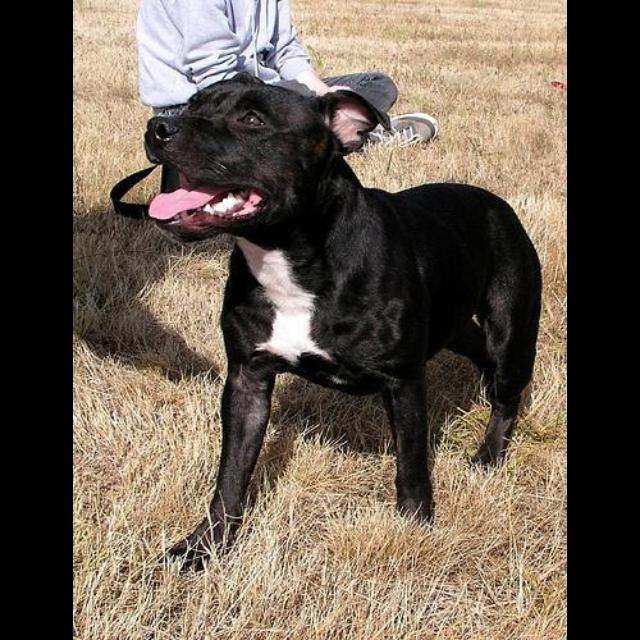staffford: (143, 72, 544, 575)
